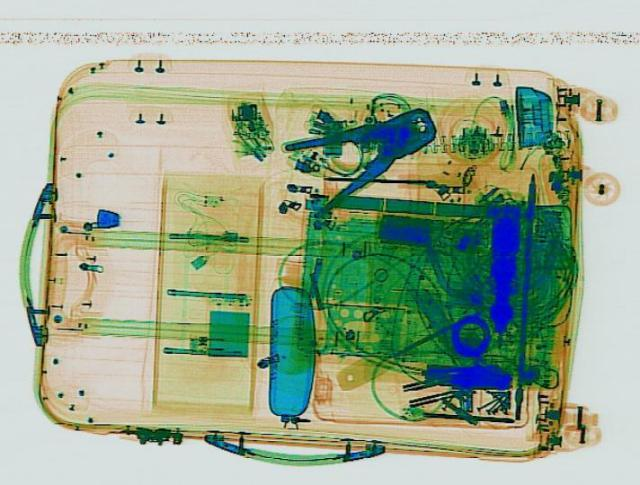Pliers: (272, 100, 463, 213)
